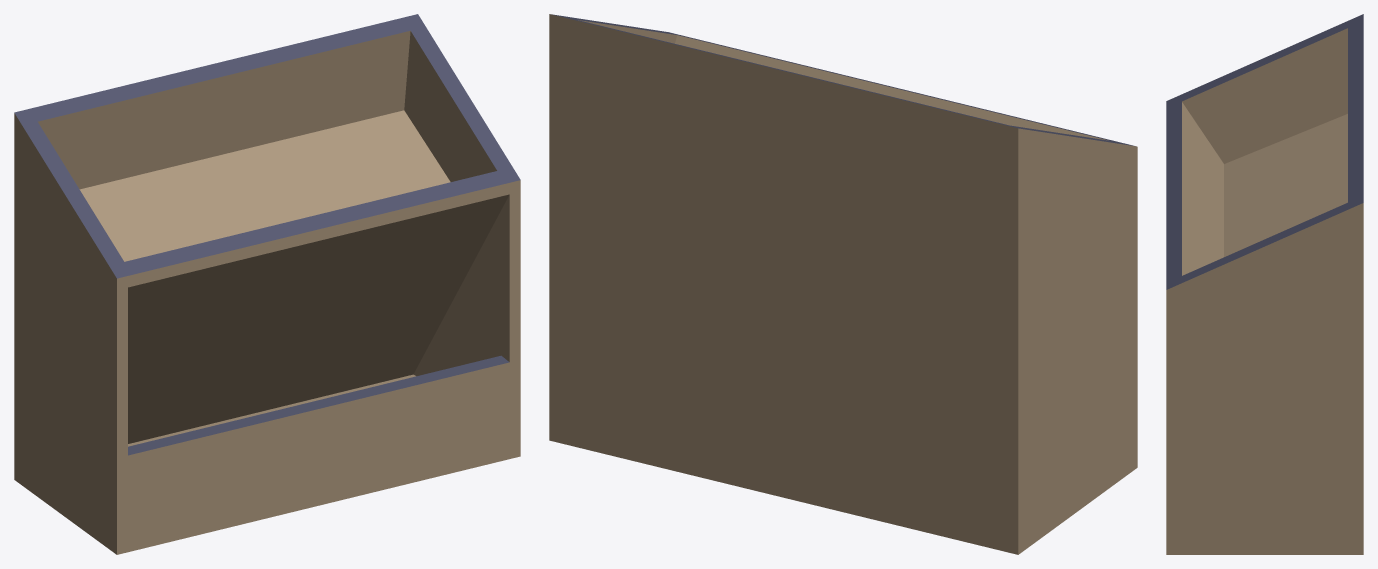
Rendered from Estante Pequeño Var.fbx.
The picture shows the model from 3 angles, left to right: view 1: azimuth 30°, elevation 25°; view 2: azimuth 150°, elevation 25°; view 3: azimuth 270°, elevation 25°; orthographic projection. The views are drawn at different scales.
Visible parts, largest first — view 1: Estante_Pequeño_Var; view 2: Estante_Pequeño_Var; view 3: Estante_Pequeño_Var.
Boxes of the visible parts, x1=… form: Estante_Pequeño_Var: x1=14, y1=14, x2=520, y2=554; Estante_Pequeño_Var: x1=549, y1=14, x2=1137, y2=554; Estante_Pequeño_Var: x1=1166, y1=14, x2=1363, y2=554.
Bounding box in the file's own units: 2.48 × 2.16 × 1.09.
